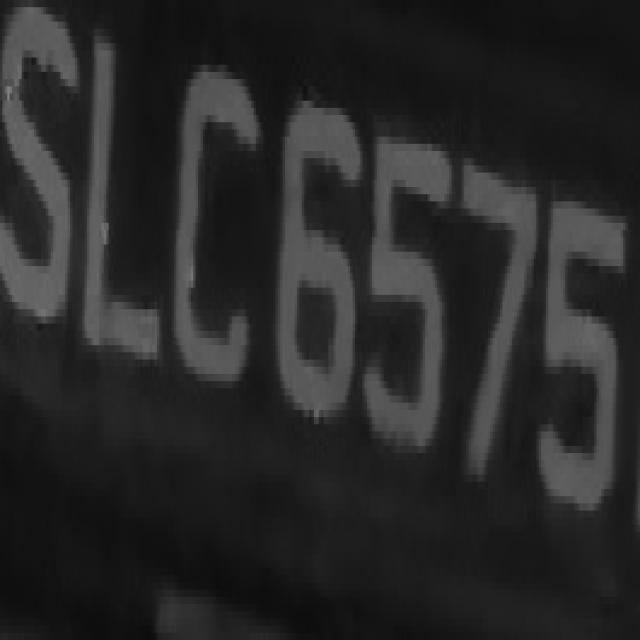5: (534, 130, 630, 540), (364, 86, 456, 475)
6: (276, 58, 362, 438)
7: (464, 93, 531, 518)
C: (164, 58, 258, 402)
L: (78, 0, 160, 410)
S: (0, 0, 80, 360)
